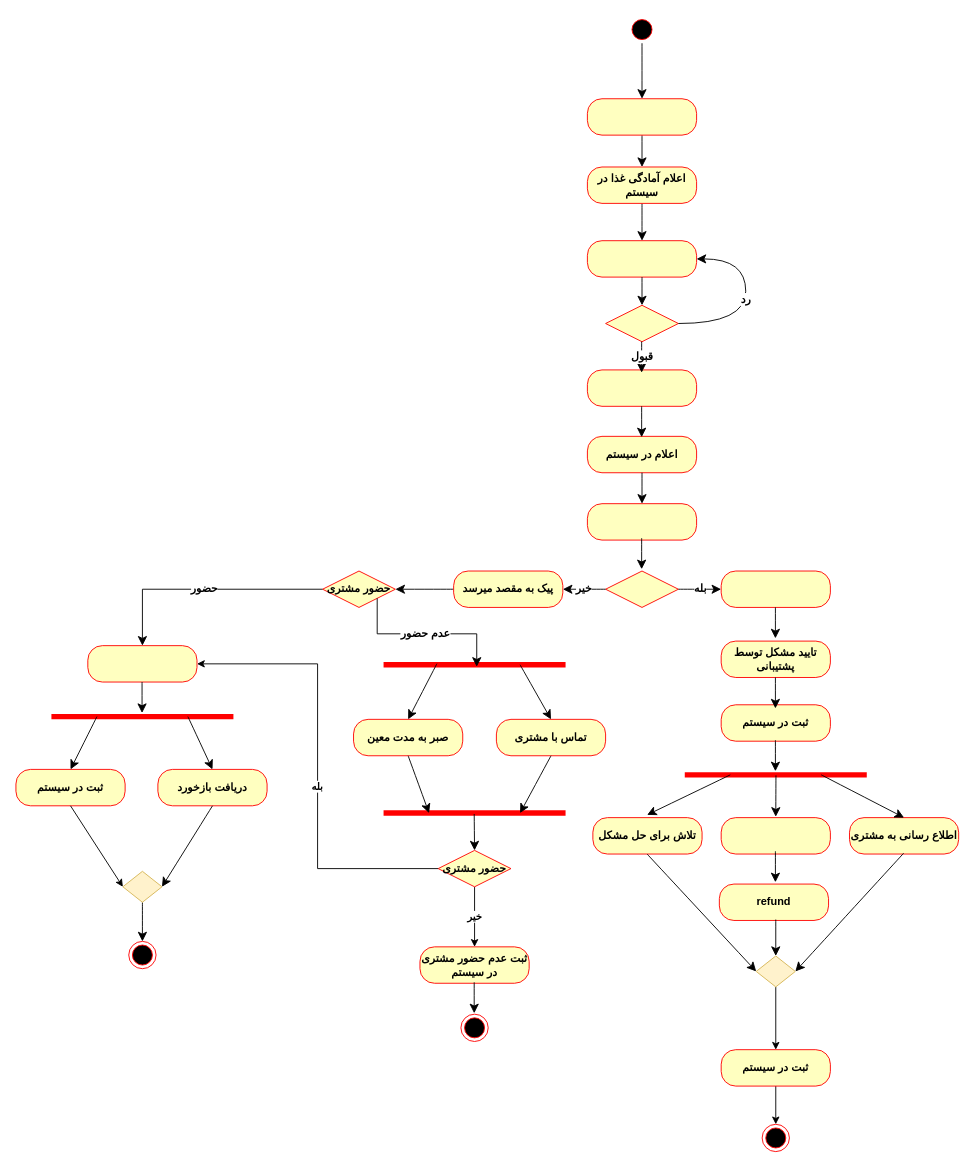
Some shapes in this 975 by 1168 pixel diagram are drawn without their labels. The centre of each missing label's shape, as x and y in pixels:
"اعلام پیک به پشتیبانی" belongs at point (775, 588).
"برداشتن غذا توسط پیک" belongs at point (641, 387).
"حرکت به سمت مقصد" belongs at point (641, 521).
"دریافت بسته" belongs at point (142, 663).
"شروع فرایند refund" belongs at point (775, 835).
"غذا آماده تحویل به پیک" belongs at point (641, 116).
"مشکل در مسیر" belongs at point (641, 588).
"پیشنهاد به پیک (pickup)" belongs at point (641, 258).
